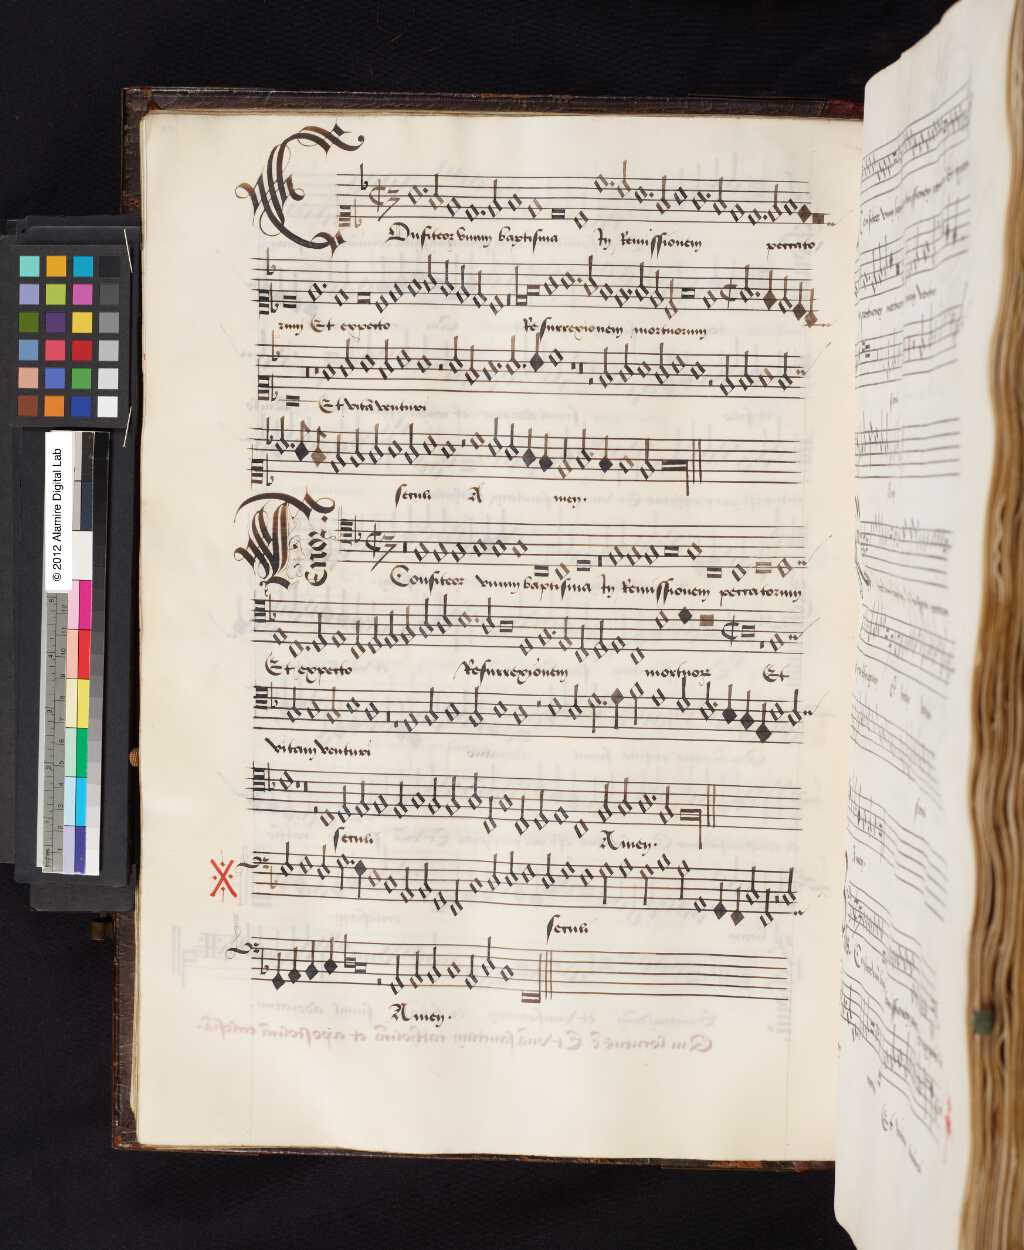breve rest: (381, 682, 393, 744)
c clef_5: (249, 671, 271, 719)
custos_5: (799, 691, 827, 729)
flat_6: (266, 676, 282, 715)
minim rest: (532, 677, 544, 740)
minim_2: (627, 673, 645, 730)
minim_4: (585, 683, 602, 739), (673, 671, 691, 721)
minim_5: (698, 673, 715, 727)
minim_6: (785, 680, 803, 733), (566, 675, 583, 724)
minim_8: (466, 677, 486, 734), (421, 678, 440, 733), (285, 675, 303, 729), (325, 676, 343, 729)
point: (708, 694, 721, 714), (598, 691, 610, 710)
semibreve rest: (390, 684, 402, 740)
semibreve_3: (648, 679, 669, 715)
semibreve_5: (545, 686, 565, 724), (769, 692, 786, 727)
semibreve_6: (489, 691, 509, 727), (344, 687, 363, 721)
semibreve_7: (361, 691, 382, 731), (511, 694, 531, 735), (441, 691, 462, 730), (303, 690, 323, 728)
semibreve_9: (399, 700, 421, 742)
semiminim_3: (609, 680, 626, 736)
semiminim_6: (721, 677, 739, 732)
semiminim_7: (740, 682, 756, 738)
semiminim_9: (756, 692, 774, 752)
